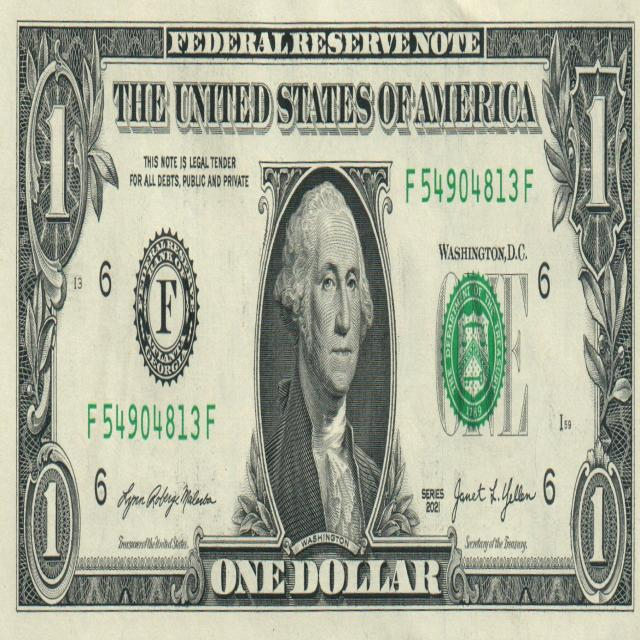SerialNumber: (406, 168, 533, 203), (102, 404, 215, 440)
